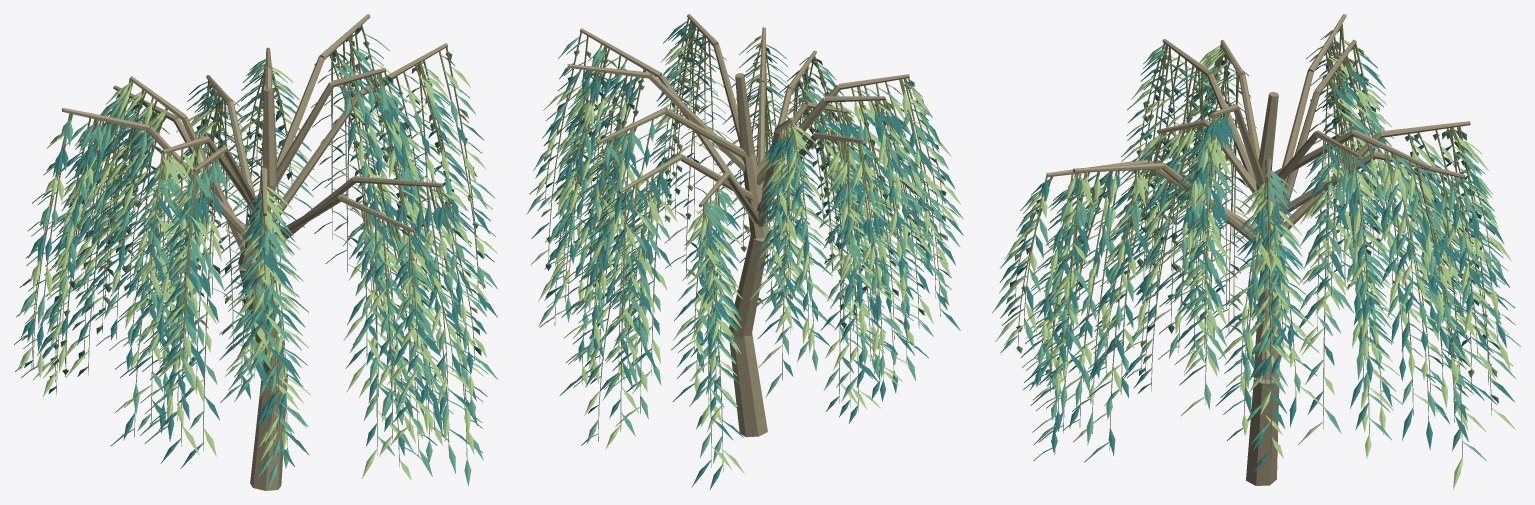
Rendered from reference-public_models_vegetation_willow.glb.
The picture shows the model from 3 angles, left to right: view 1: azimuth 30°, elevation 25°; view 2: azimuth 150°, elevation 25°; view 3: azimuth 270°, elevation 25°; orthographic projection. The views are drawn at different scales.
Parts seen in each view (by area): view 1: Sunwen_willow; view 2: Sunwen_willow; view 3: Sunwen_willow.
Part boxes in pixels (x1,y1,x2,y2): Sunwen_willow: (14,14,497,490); Sunwen_willow: (526,14,963,490); Sunwen_willow: (992,14,1520,490).
Size of the model in its own units: 4.85 by 4.4 by 5.1.
